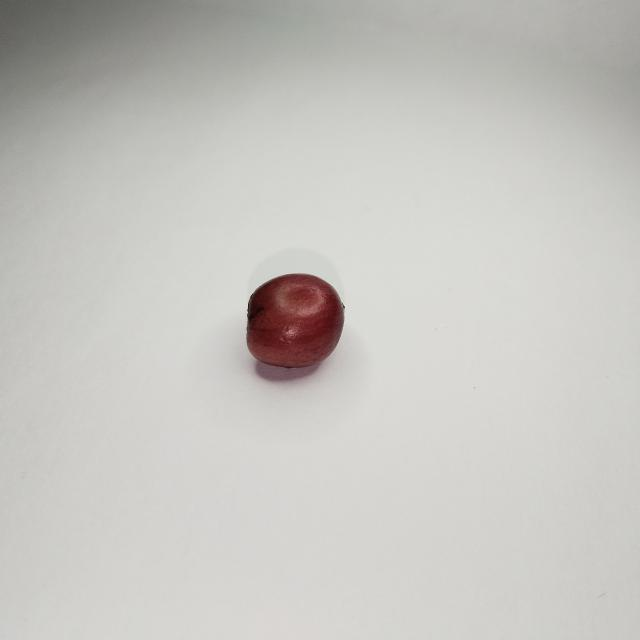Sano: (247, 274, 344, 376)
